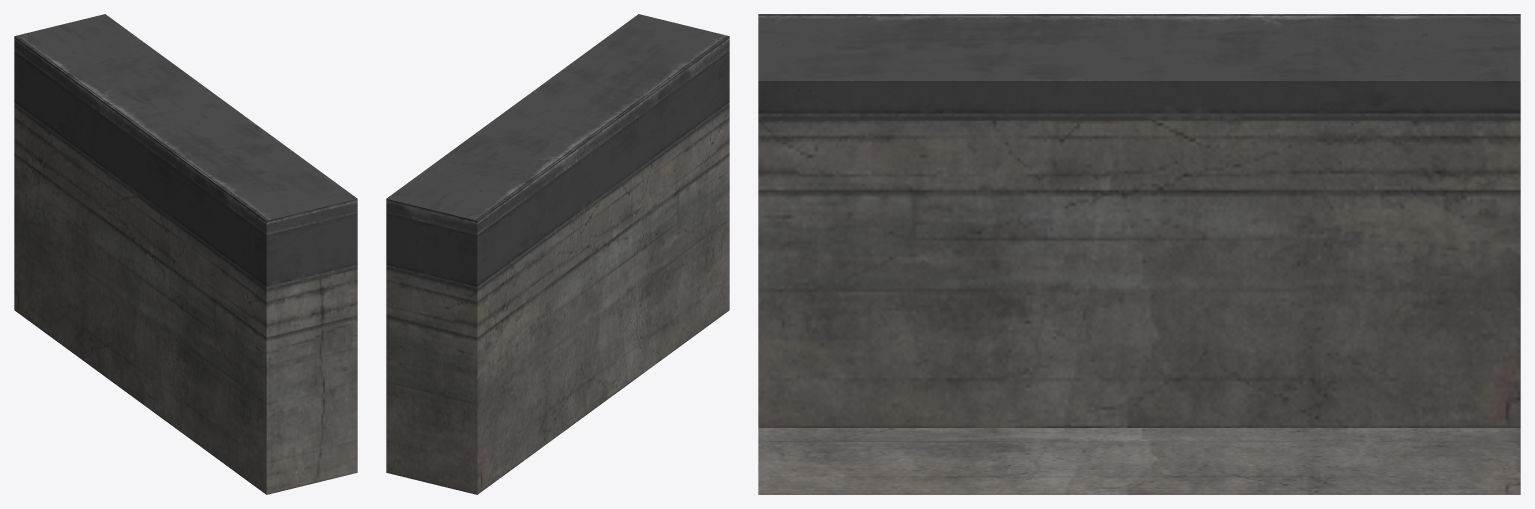
File: CP_Cornice_B_1m.fbx
3 views of the same model, side by side, from view 1: azimuth 30°, elevation 25°; view 2: azimuth 150°, elevation 25°; view 3: azimuth 270°, elevation 25° (orthographic). The views are drawn at different scales.
Visible parts, largest first — view 1: CP_Cornice_B_1m; view 2: CP_Cornice_B_1m; view 3: CP_Cornice_B_1m.
Boxes of the visible parts, x1,y1,x2,y2 form: CP_Cornice_B_1m: [14, 14, 357, 494]; CP_Cornice_B_1m: [386, 14, 729, 494]; CP_Cornice_B_1m: [758, 14, 1520, 494].
Bounding box in the file's own units: 20.83 × 59.9 × 100.
